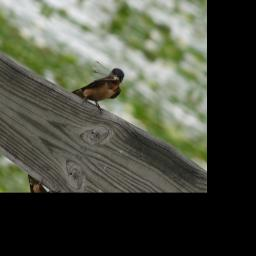Swallow: (67, 51, 130, 122)
